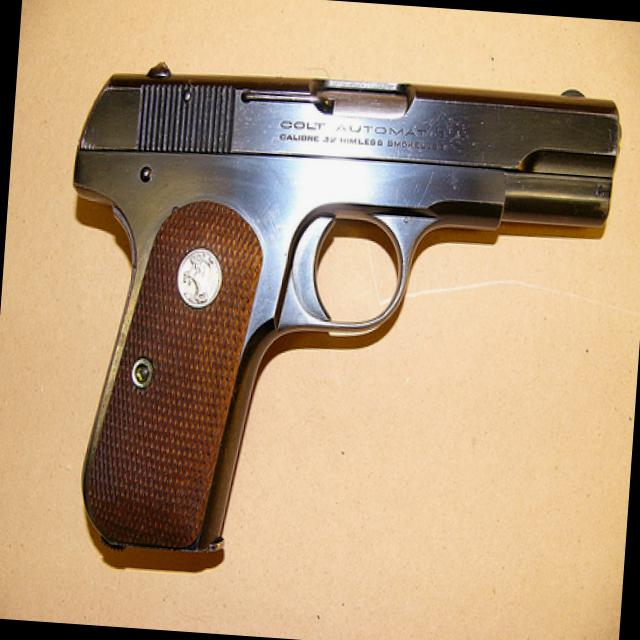handgun: (46, 49, 621, 578)
